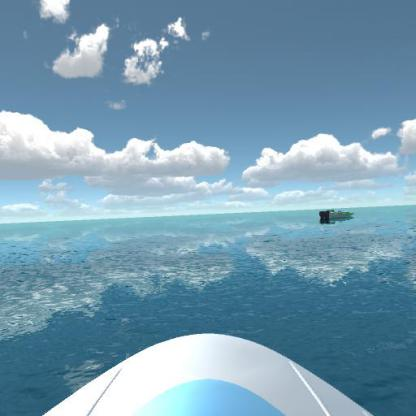usv0: (318, 203, 356, 226)
